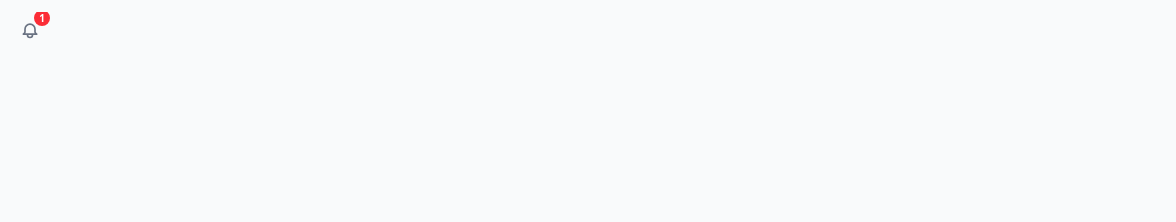
Test: NotificationBell › opens a dropdown listing recent orders when clicked
expect the text "ORD-A1" is not shown: met
Click the button named "Notifications" at (30, 30), box [12,12,48,48]
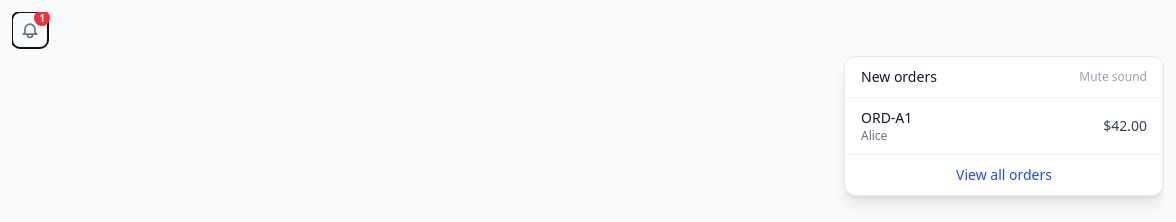
expect the text "ORD-A1" is shown: met, box [861,108,912,128]
expect the text "Alice" is shown: met, box [861,127,887,144]
